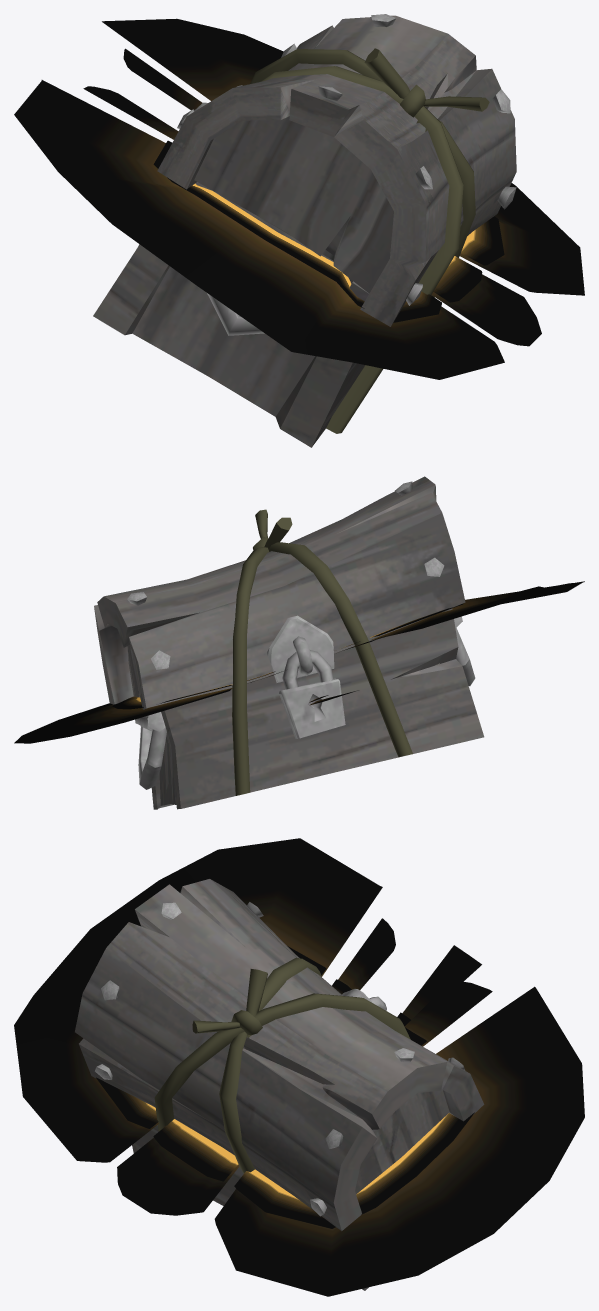
The model's file is chest.fbx.
3 renders of one model, top to bottom at view 1: azimuth 30°, elevation 25°; view 2: azimuth 150°, elevation 25°; view 3: azimuth 270°, elevation 25°, orthographic. The views are drawn at different scales.
Parts seen in each view (by area): view 1: chest, glow; view 2: chest, glow; view 3: glow, chest.
Part boxes in pixels (box(x1,y1,x2,y2)): chest: box(93, 14, 516, 447); glow: box(14, 18, 584, 379); chest: box(94, 476, 484, 809); glow: box(14, 581, 584, 743); glow: box(14, 838, 584, 1296); chest: box(75, 879, 484, 1290).
Bounding box in the file's own units: 1.93 × 1.22 × 2.02.
2 materials, 2 textured.
